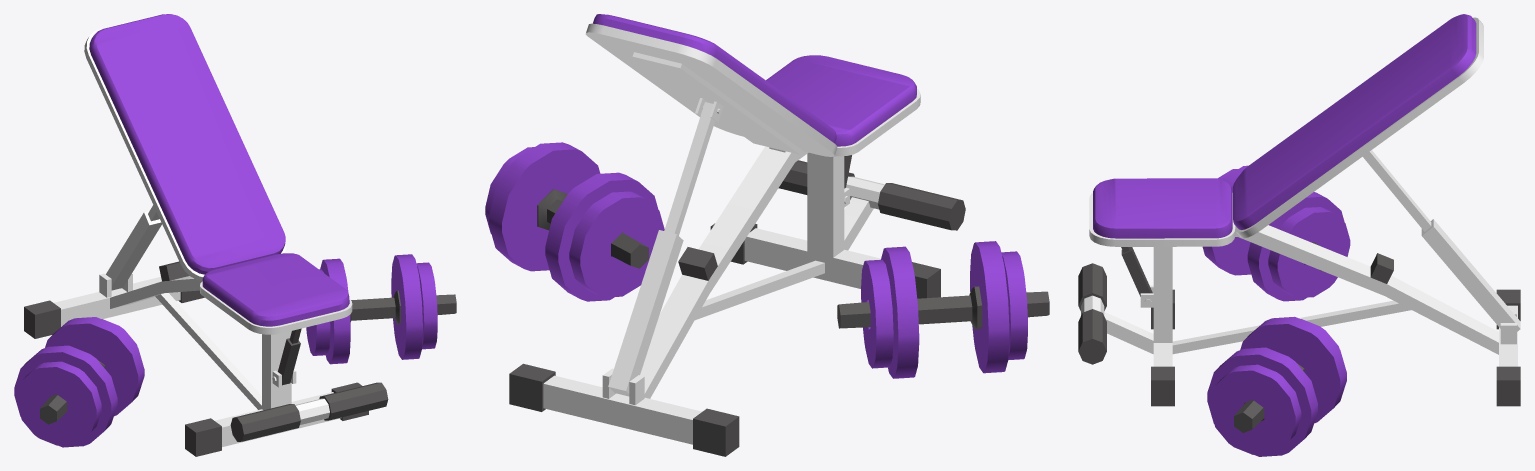
Rendered from Mchn_6.fbx.
3 views of the same model, side by side, from view 1: azimuth 30°, elevation 25°; view 2: azimuth 150°, elevation 25°; view 3: azimuth 270°, elevation 25° (orthographic). The views are drawn at different scales.
Parts seen in each view (by area): view 1: Mchn_6, Mchn_1_1.002, Mchn_1_1.001; view 2: Mchn_6, Mchn_1_1.001, Mchn_1_1.002; view 3: Mchn_6, Mchn_1_1.001, Mchn_1_1.002.
Part boxes in pixels (x1=…): Mchn_6: x1=24, y1=14, x2=388, y2=456; Mchn_1_1.002: x1=14, y1=317, x2=144, y2=447; Mchn_1_1.001: x1=306, y1=254, x2=456, y2=364; Mchn_6: x1=509, y1=14, x2=965, y2=456; Mchn_1_1.001: x1=485, y1=142, x2=664, y2=301; Mchn_1_1.002: x1=837, y1=241, x2=1049, y2=378; Mchn_6: x1=1078, y1=14, x2=1520, y2=406; Mchn_1_1.001: x1=1207, y1=316, x2=1346, y2=456; Mchn_1_1.002: x1=1202, y1=165, x2=1350, y2=301.
Bounding box in the file's own units: 176 × 120 × 146.
